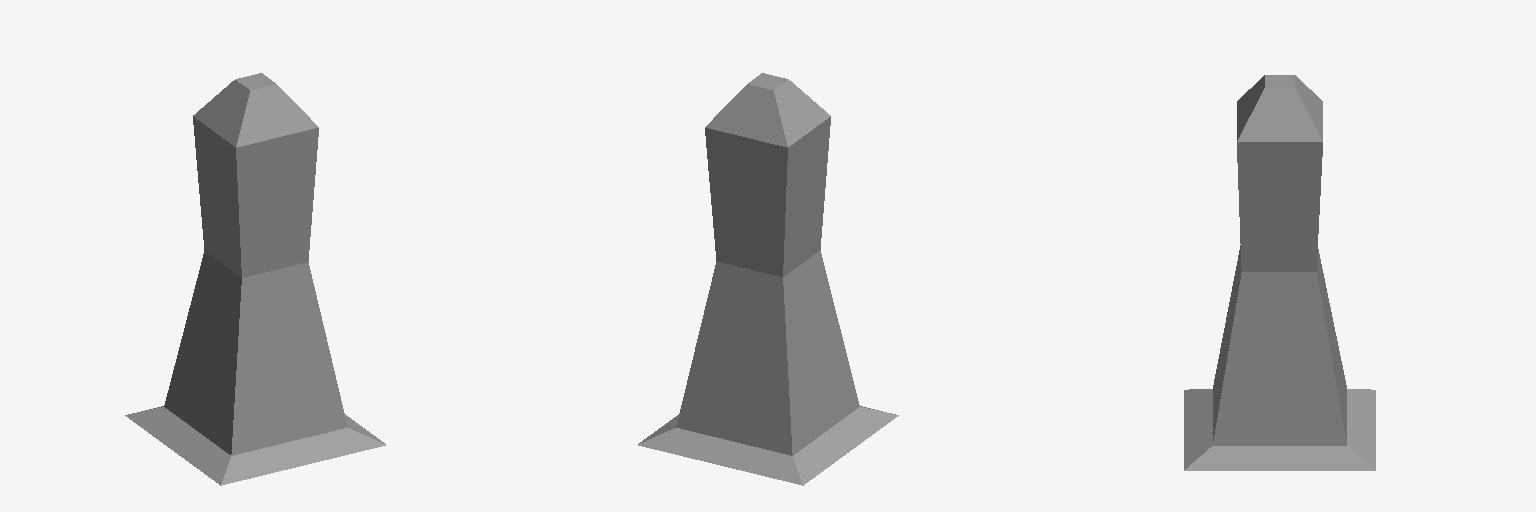
File: stabilizer_2.obj
3 renders of one model, left to right at view 1: azimuth 30°, elevation 25°; view 2: azimuth 150°, elevation 25°; view 3: azimuth 270°, elevation 25°, orthographic.
Visible parts, largest first — view 1: Cube_Cube.001; view 2: Cube_Cube.001; view 3: Cube_Cube.001.
Boxes of the visible parts, box(x1,y1,x2,y2) form: Cube_Cube.001: box(125, 73, 385, 485); Cube_Cube.001: box(638, 73, 898, 485); Cube_Cube.001: box(1184, 75, 1375, 470).
Bounding box in the file's own units: 1 × 2 × 1.